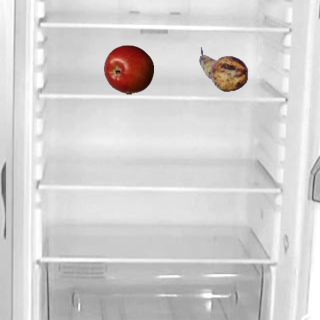Apple Braeburn: (103, 44, 153, 94)
Pear Abate: (198, 44, 248, 94)
